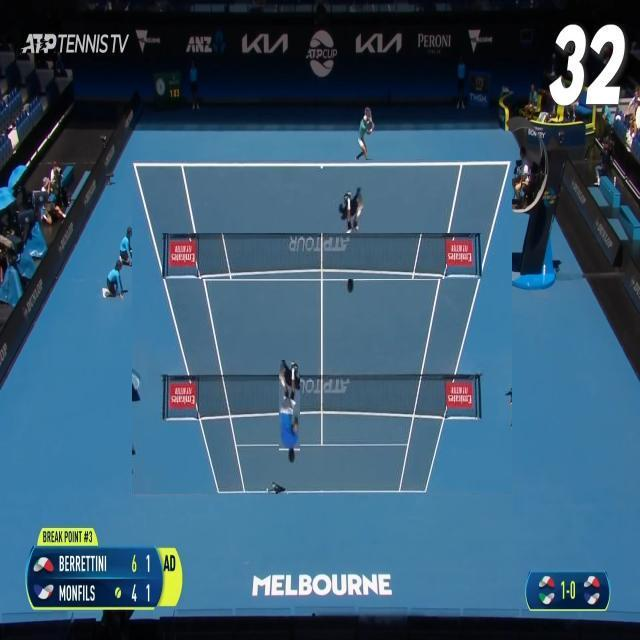court: (132, 160, 512, 494)
net: (162, 233, 482, 279)
player: (280, 360, 302, 464)
